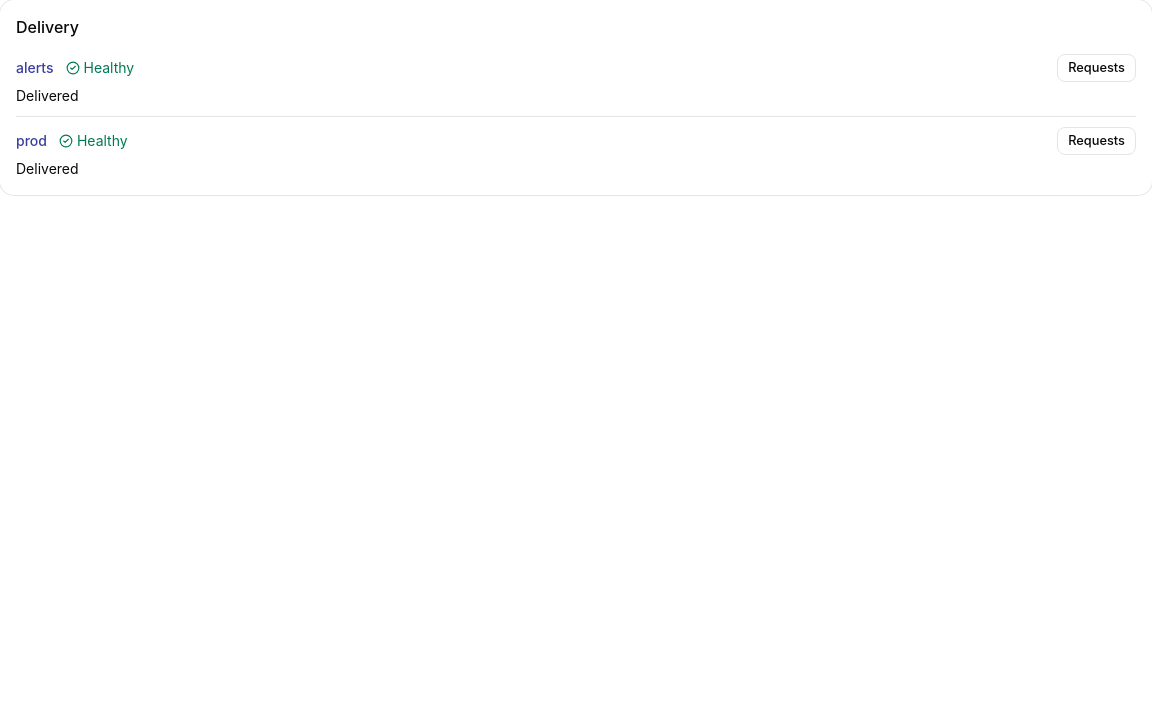
Test: the requests of a delivery › opens the requests of each Destination for this Alert Group
The width and height of the screenshot is (1152, 720).
expect the button "Requests" in the row of "prod" is shown: met, box [1057,127,1136,155]
Click the button "Requests" in the row of "alerts".
click(1097, 68)  # box [1057,54,1136,82]
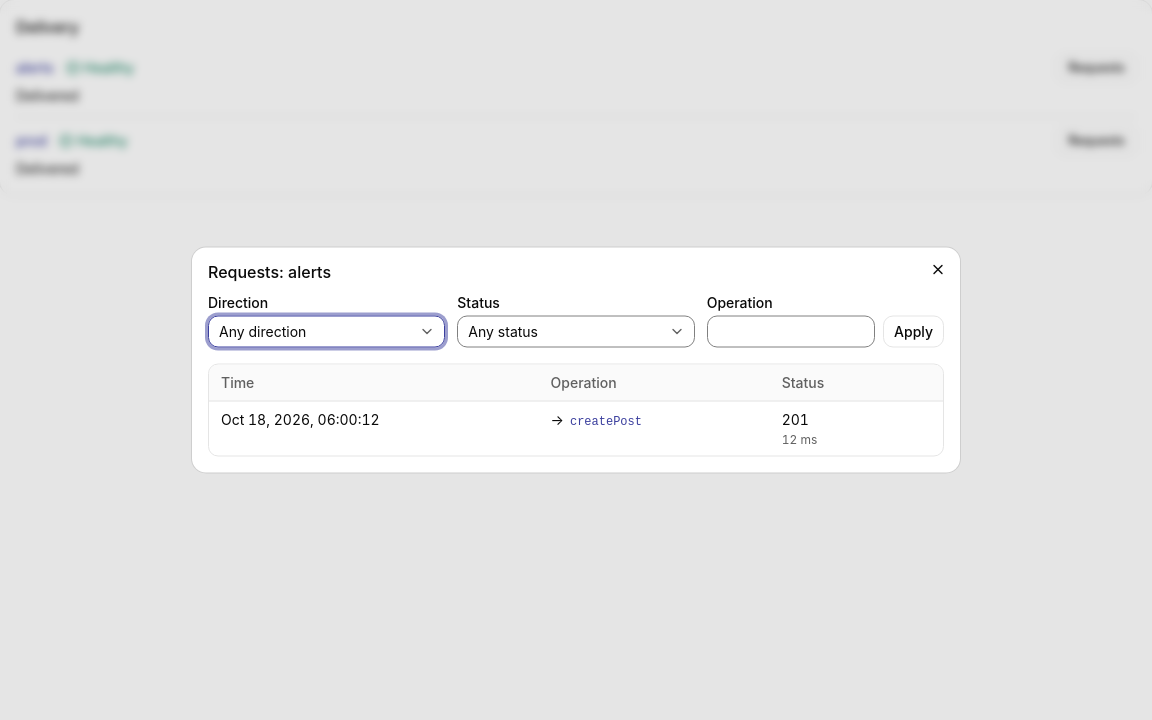
expect the button "createPost" is shown: met, box [570,414,642,430]
expect the text with test id "request-status" reads "201": met, box [782,410,809,428]
